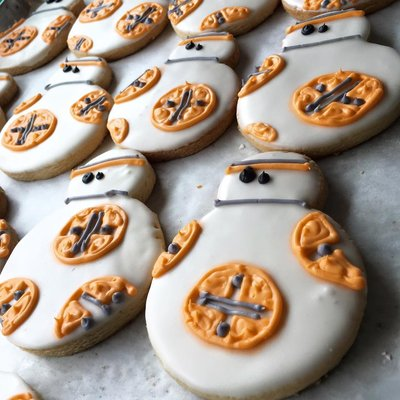sushi: (1, 0, 399, 400)
